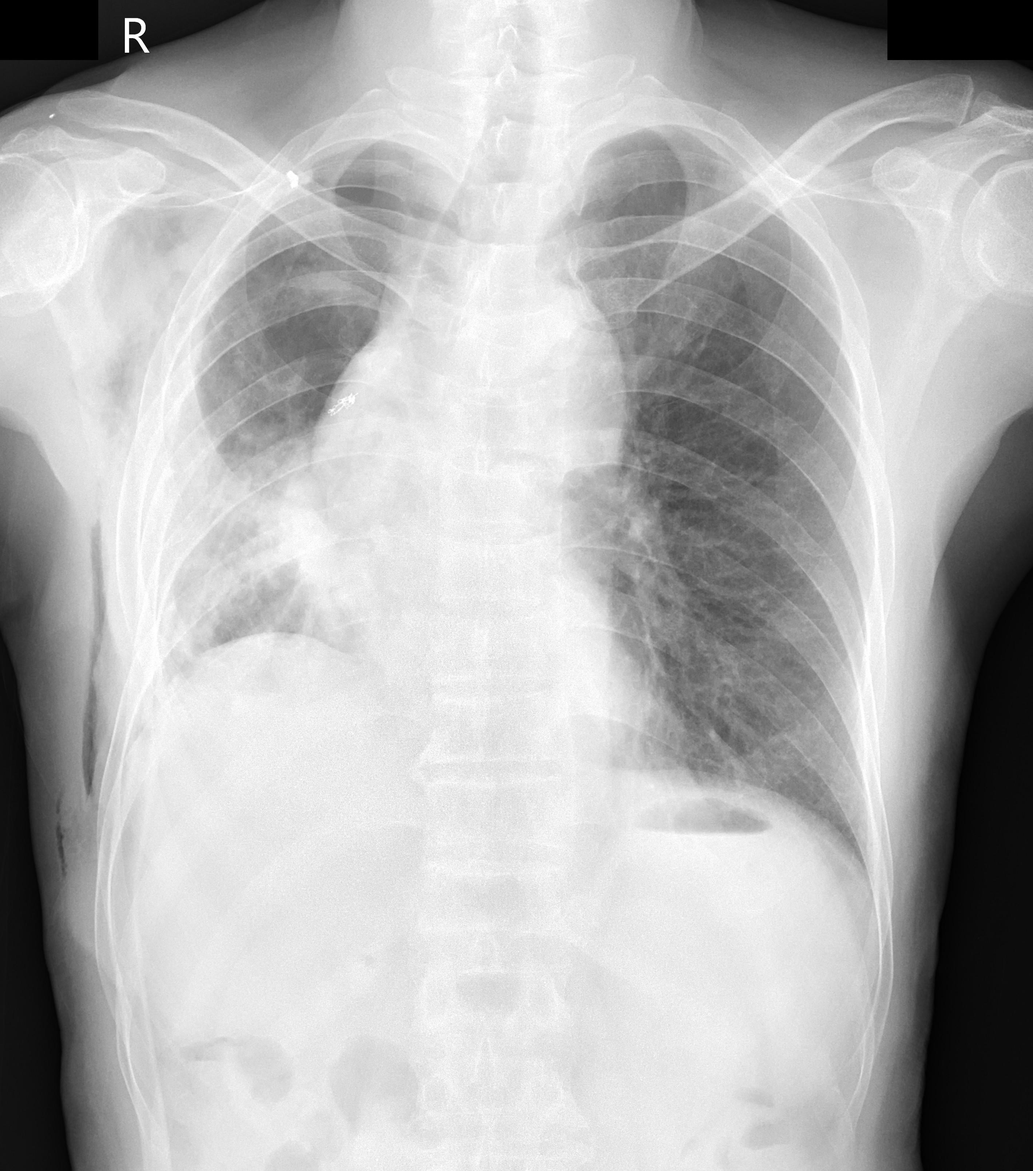Aortic enlargement: (493, 276, 621, 469)
